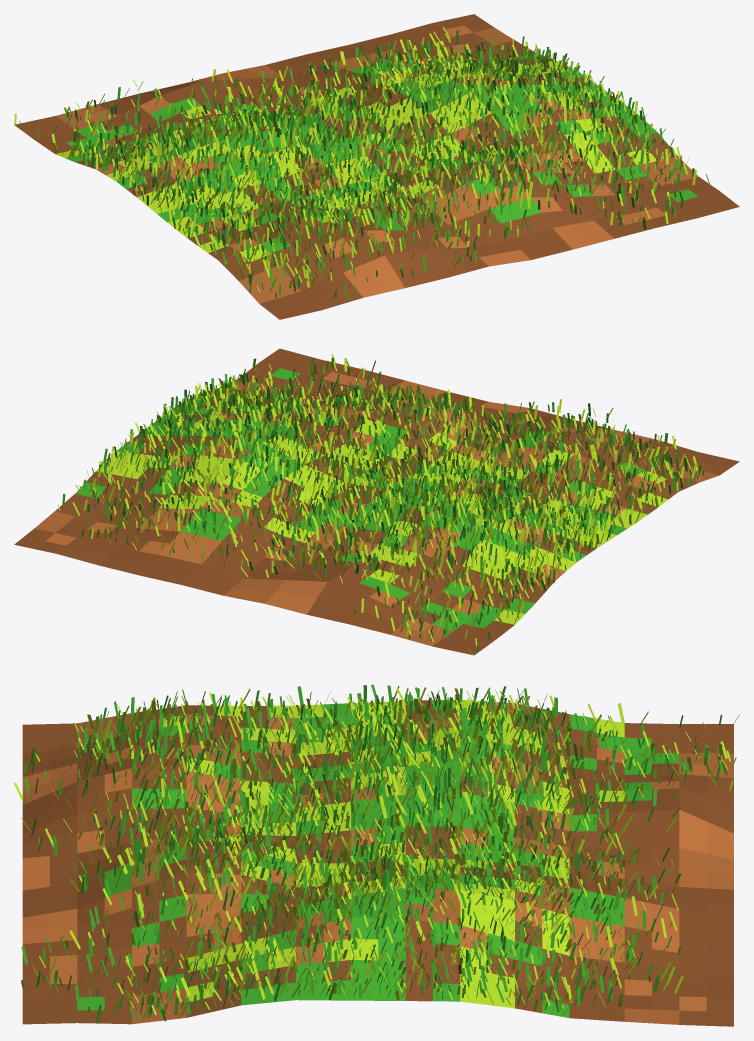
The model's file is sol map.fbx.
3 renders of one model, top to bottom at view 1: azimuth 30°, elevation 25°; view 2: azimuth 150°, elevation 25°; view 3: azimuth 270°, elevation 25°, orthographic. The views are drawn at different scales.
Parts seen in each view (by area): view 1: sol; view 2: sol; view 3: sol.
Part boxes in pixels (x1=…): sol: x1=14, y1=14, x2=739, y2=319; sol: x1=14, y1=348, x2=739, y2=655; sol: x1=14, y1=684, x2=739, y2=1026.
Size of the model in its own units: 203 by 22.82 by 204.
